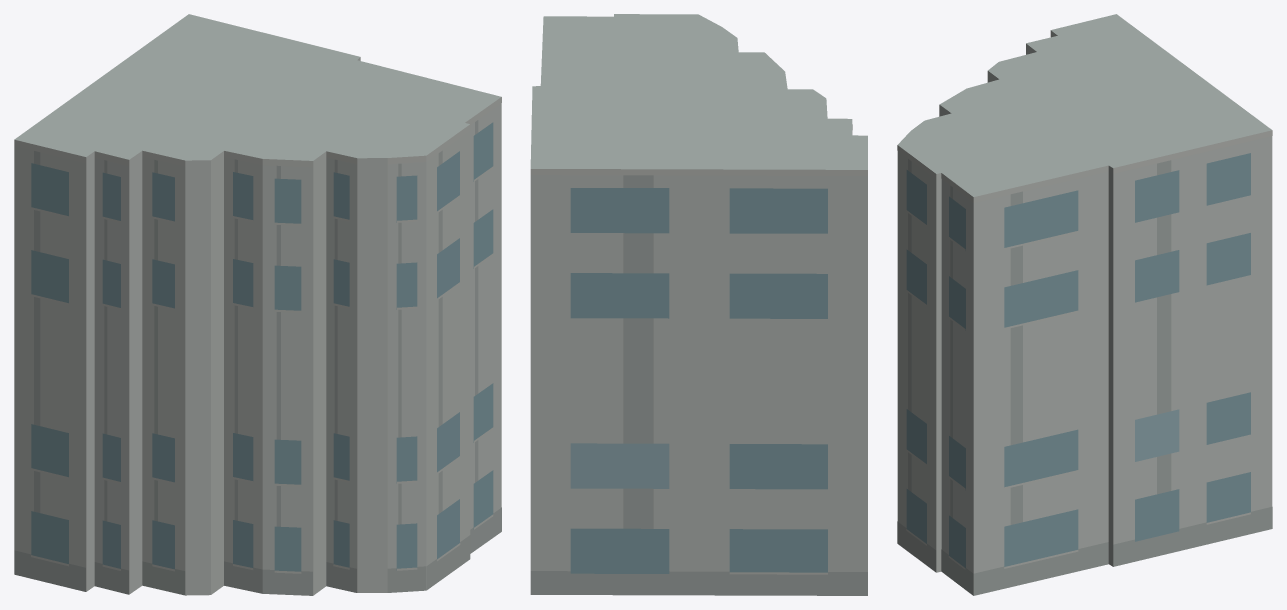
Rendered from survey-upis-32496148.glb.
The picture shows the model from 3 angles, left to right: view 1: azimuth 30°, elevation 25°; view 2: azimuth 150°, elevation 25°; view 3: azimuth 270°, elevation 25°; orthographic projection. The views are drawn at different scales.
Parts seen in each view (by area): view 1: survey-upis-32496148.tmp; view 2: survey-upis-32496148.tmp; view 3: survey-upis-32496148.tmp.
Part boxes in pixels (<box>): survey-upis-32496148.tmp: <box>14,14,501,595</box>; survey-upis-32496148.tmp: <box>530,14,867,595</box>; survey-upis-32496148.tmp: <box>897,14,1272,595</box>.
Size of the model in its own units: 16.46 by 16.7 by 14.24.
